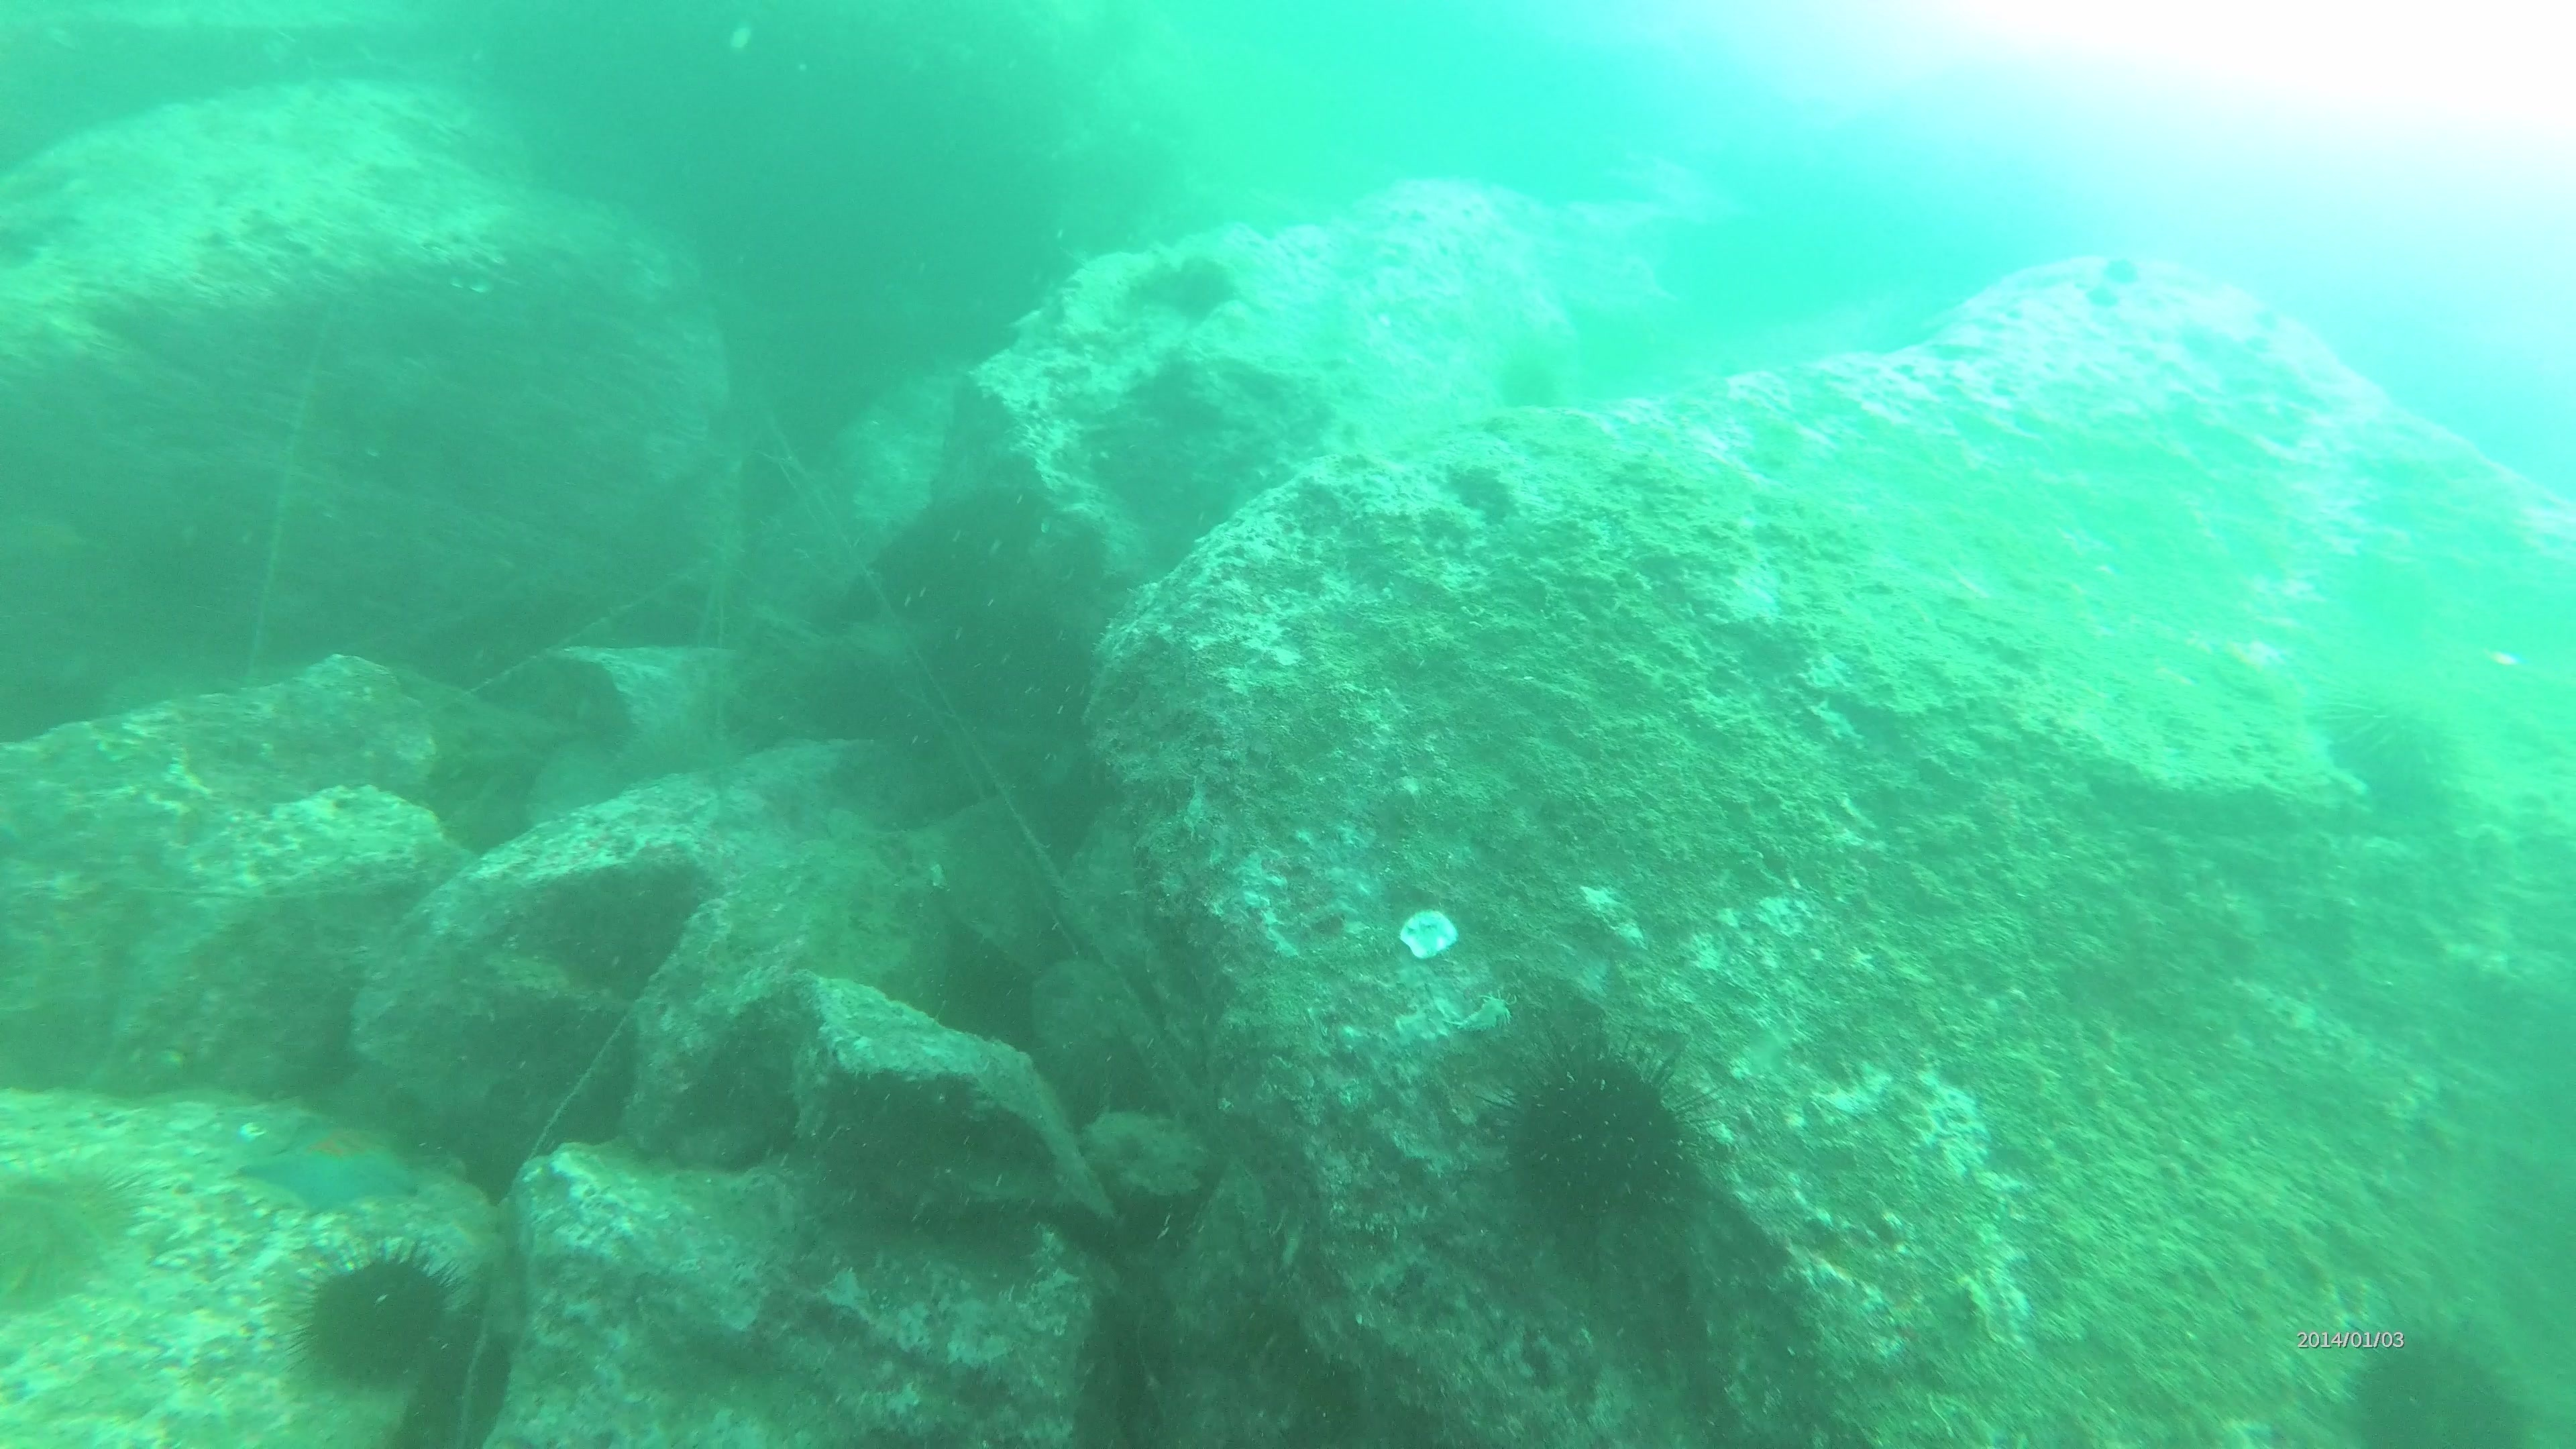echinus: (1488, 1031, 1704, 1238), (285, 1240, 458, 1398), (2335, 1320, 2537, 1449), (2, 1148, 152, 1307), (2316, 678, 2465, 809)
starfish: (232, 1108, 426, 1221)
